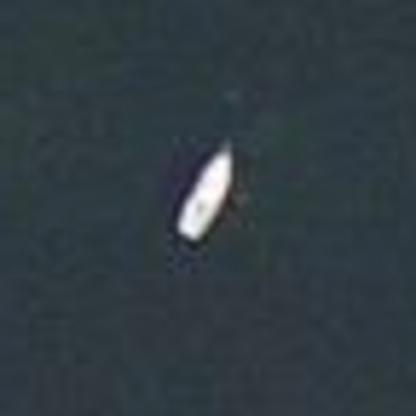ship: (146, 116, 277, 263)
